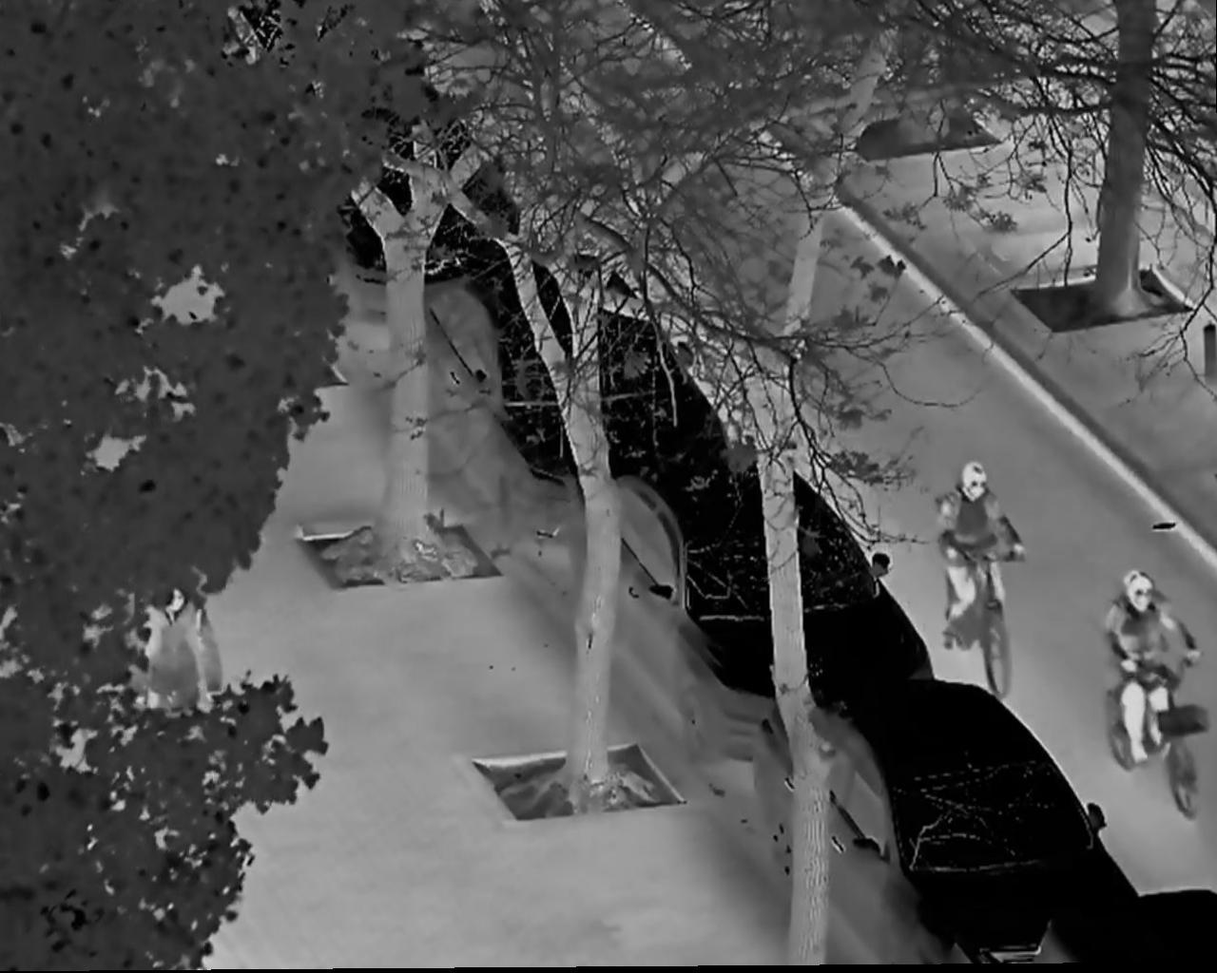person: (1108, 568, 1190, 765), (932, 460, 1014, 639)
